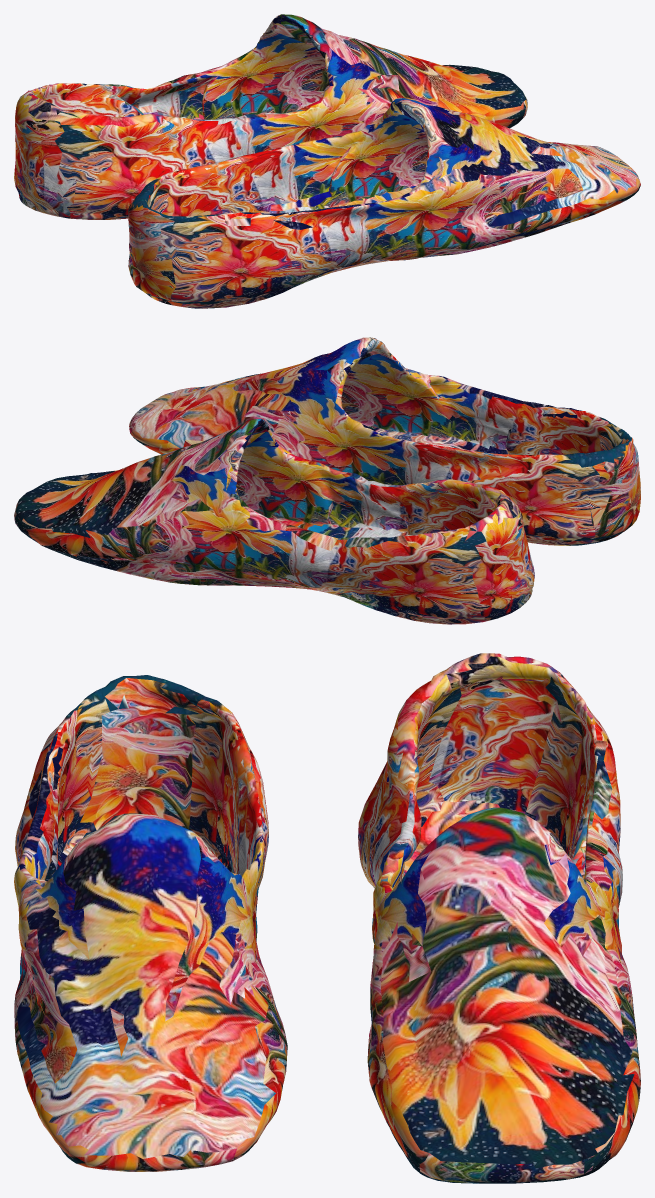
The model's file is si_nmaahc_pair-of-stars-and-stripes-slippers-attributed-to-elizabeth-k.glb.
3 renders of one model, top to bottom at view 1: azimuth 30°, elevation 25°; view 2: azimuth 150°, elevation 25°; view 3: azimuth 270°, elevation 25°, orthographic. The views are drawn at different scales.
Parts seen in each view (by area): view 1: A; view 2: A; view 3: A.
Part boxes in pixels (x1,y1,x2,y2): A: [14, 14, 640, 308]; A: [14, 337, 640, 624]; A: [14, 653, 640, 1183].
Bounding box in the file's own units: 2 × 0.5634 × 1.41.
Materials: 1 (1 with a texture image).
